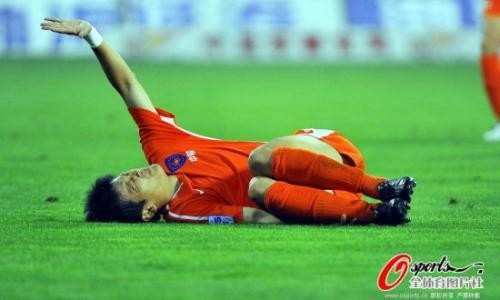falling: (70, 14, 422, 225)
